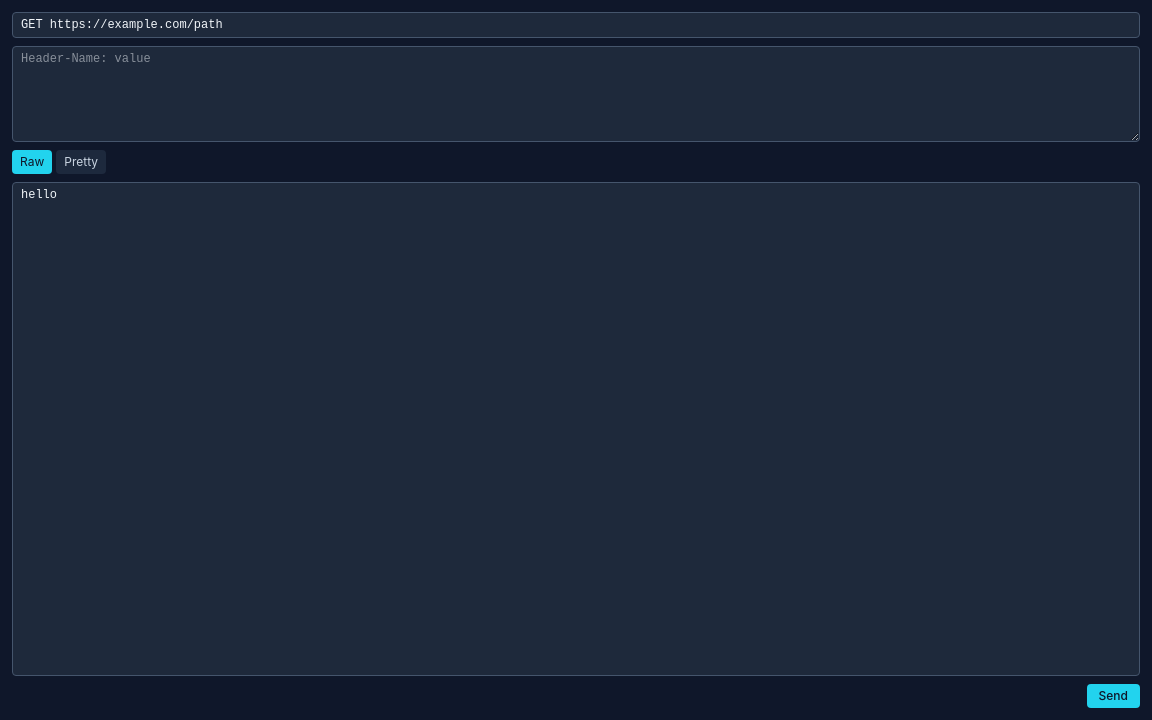
ReplayRequestEditor › an error from sendReplay is recorded on the tab's history (response=null)
Step 1. Click the button with test id "replay-request-editor-send" → (1113, 696), box left=1087, top=684, right=1140, bottom=708
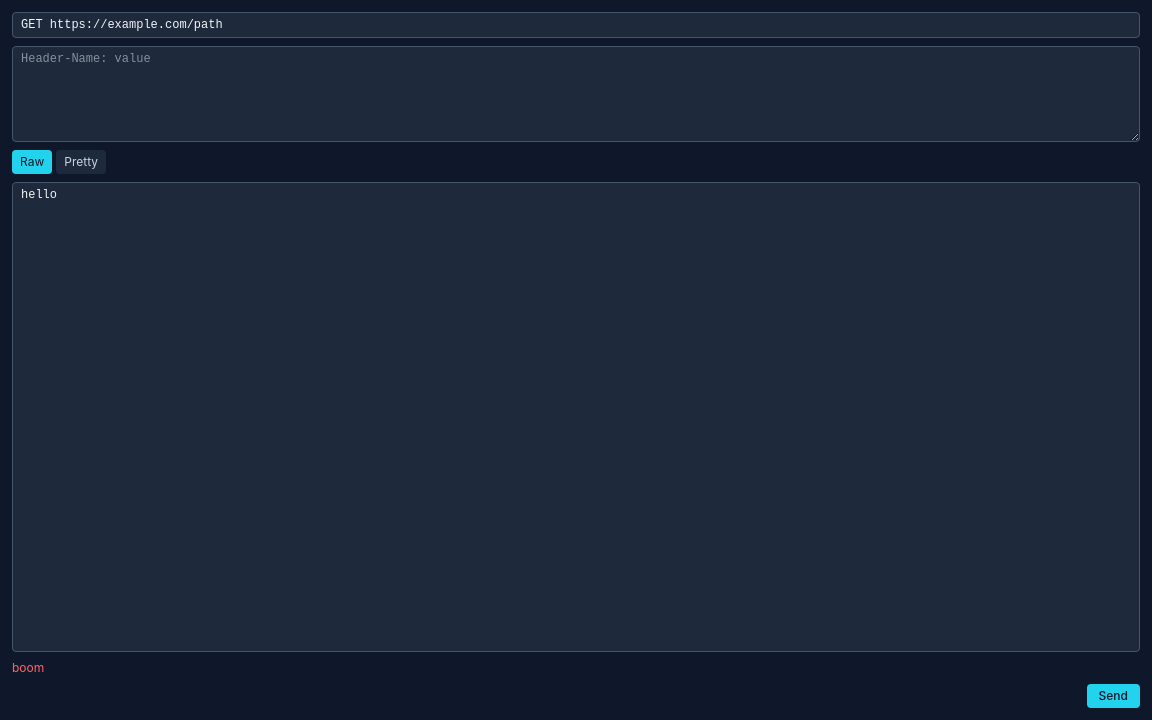
Check: the text "boom" is shown, box left=12, top=660, right=44, bottom=675
